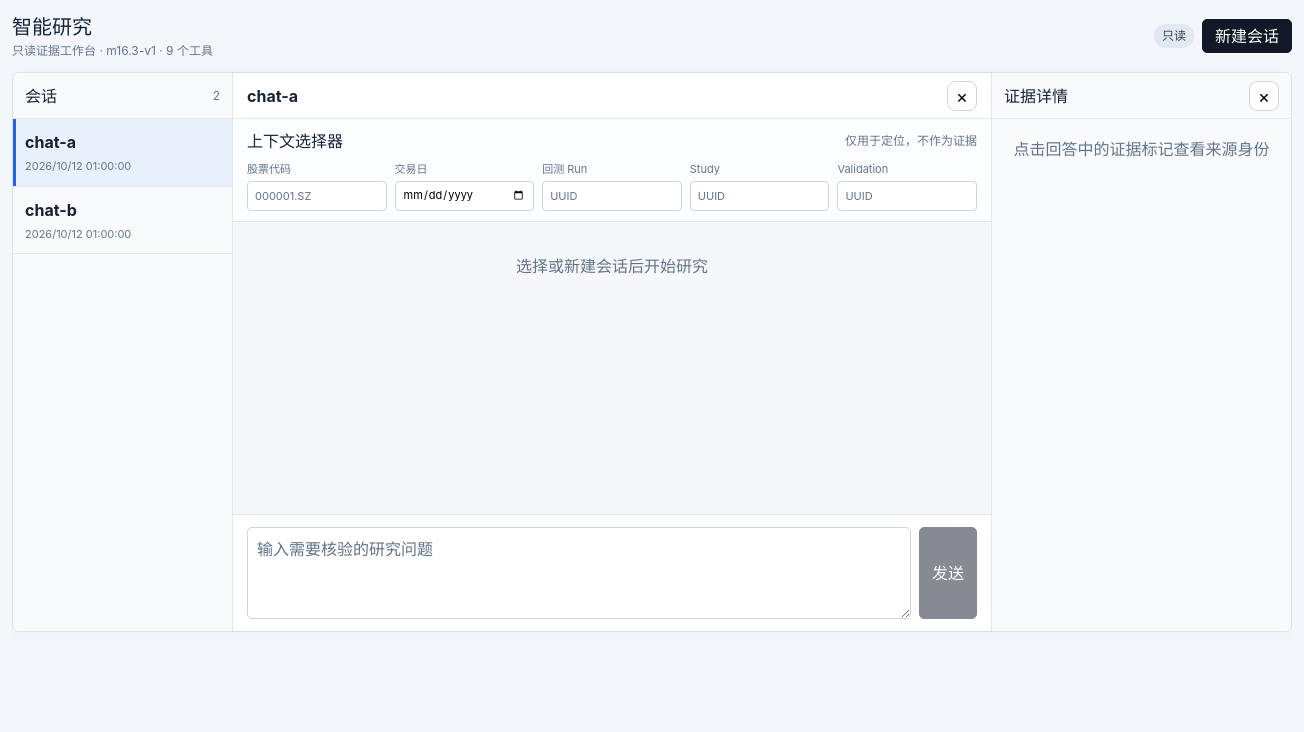
Test: does not accept a completed lookup that is bound to different request content
Type "original content" into the text box with placeholder "输入需要核验的研究问题" at [579, 573], box [247,527,911,619]
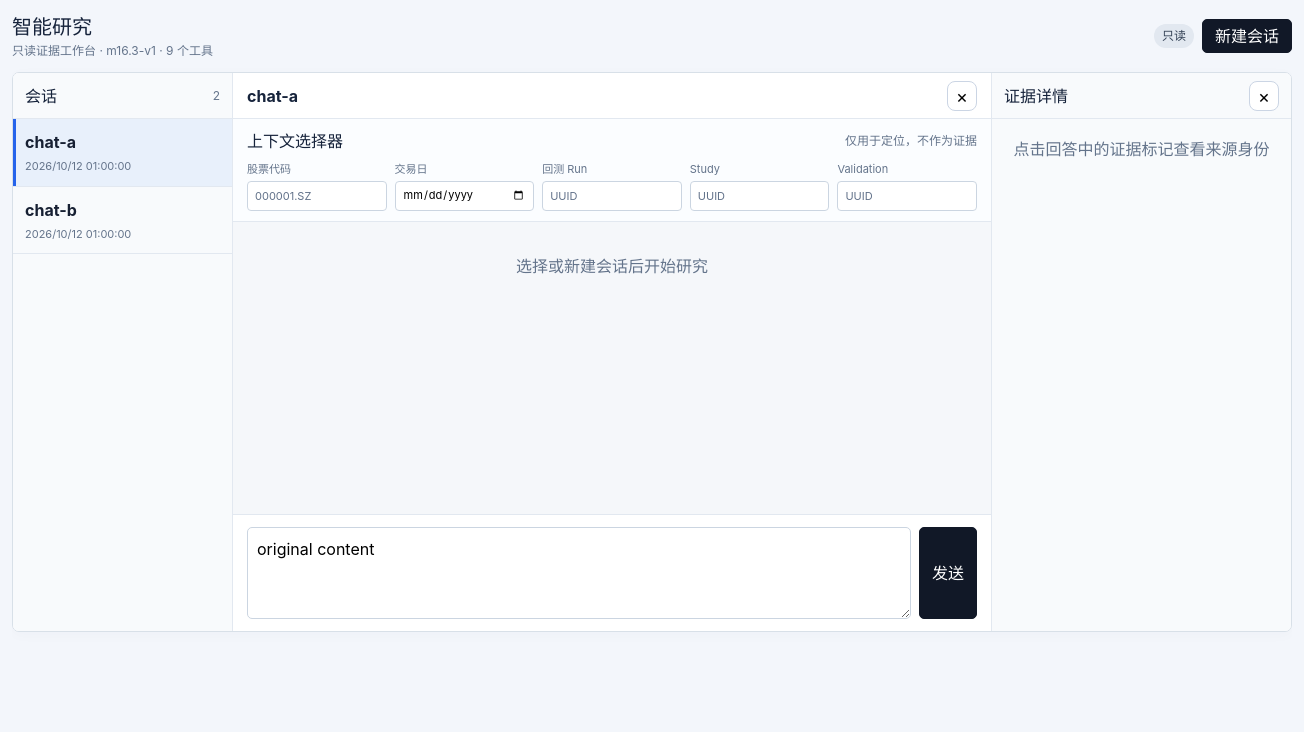
Submit the form with class "agent-composer", box [233,514,991,631]
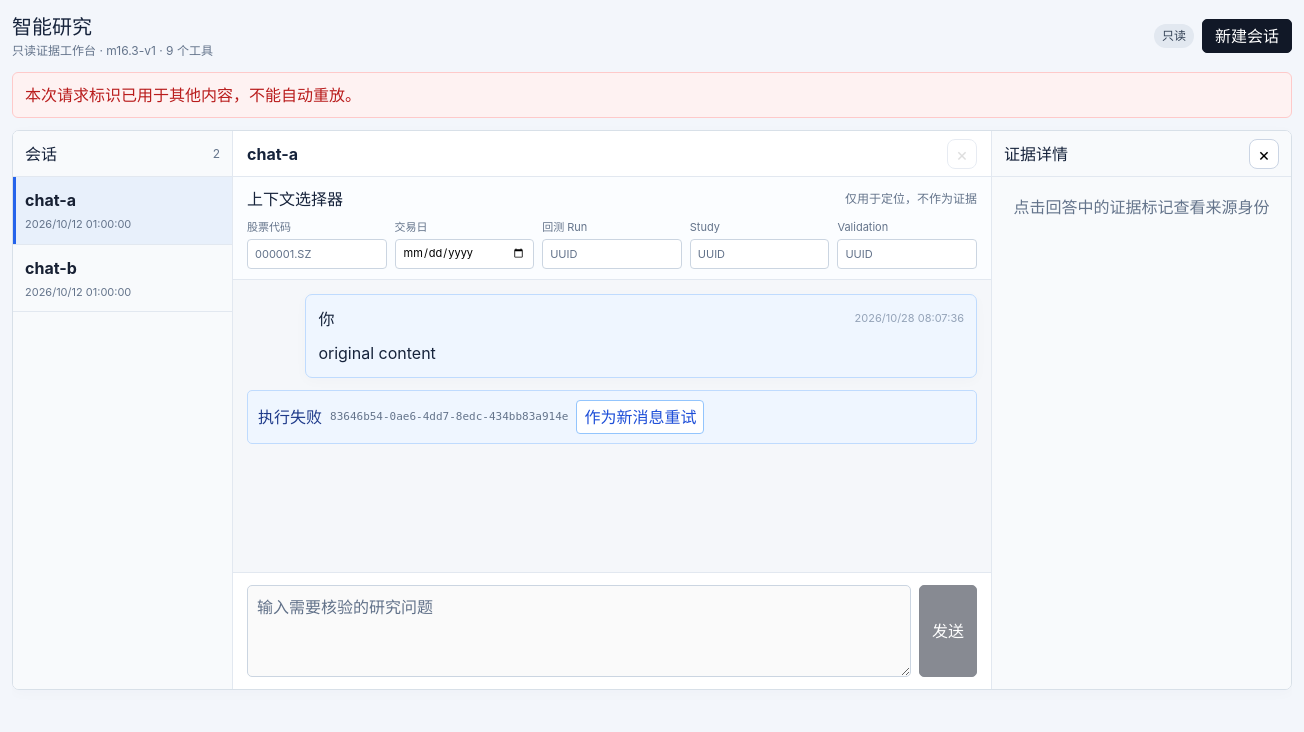
Result: the text "不能自动重放" is shown at [25,85,361,105]
